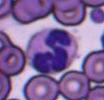N: (26, 27, 78, 73)
